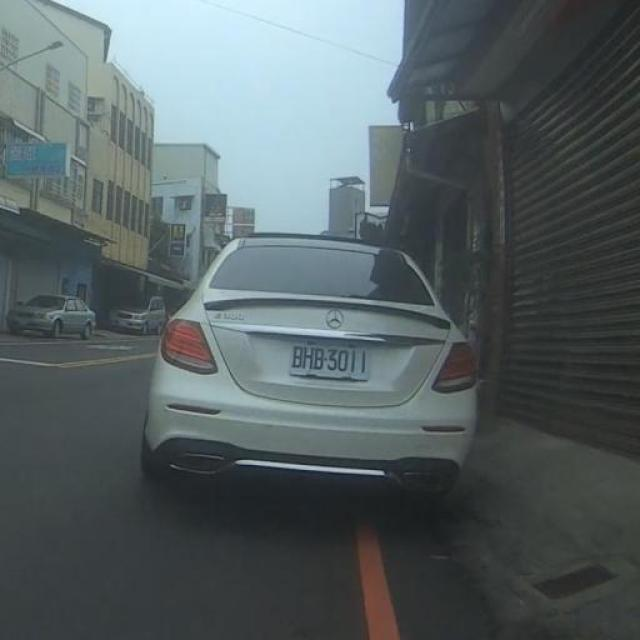Legalparking: (6, 295, 95, 339), (112, 296, 166, 334)
illegalparking: (141, 234, 475, 496)
